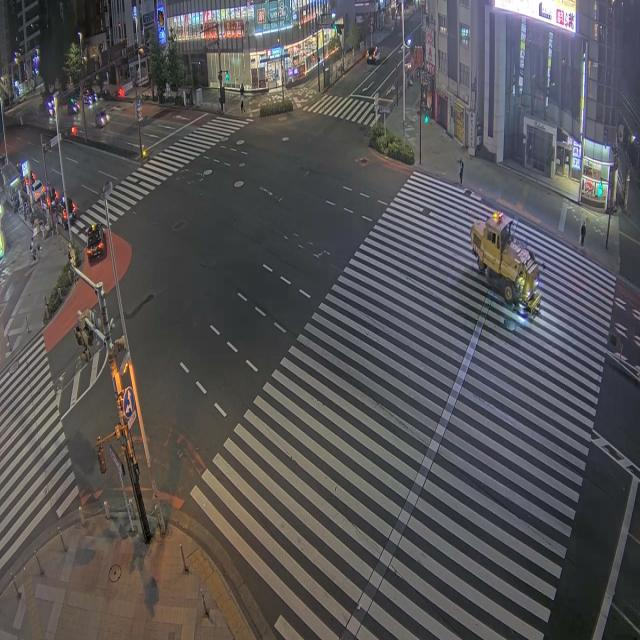car: (86, 224, 105, 261), (56, 197, 66, 226), (32, 180, 45, 201), (96, 110, 109, 127), (366, 47, 379, 64), (84, 89, 96, 105), (68, 98, 79, 115)
